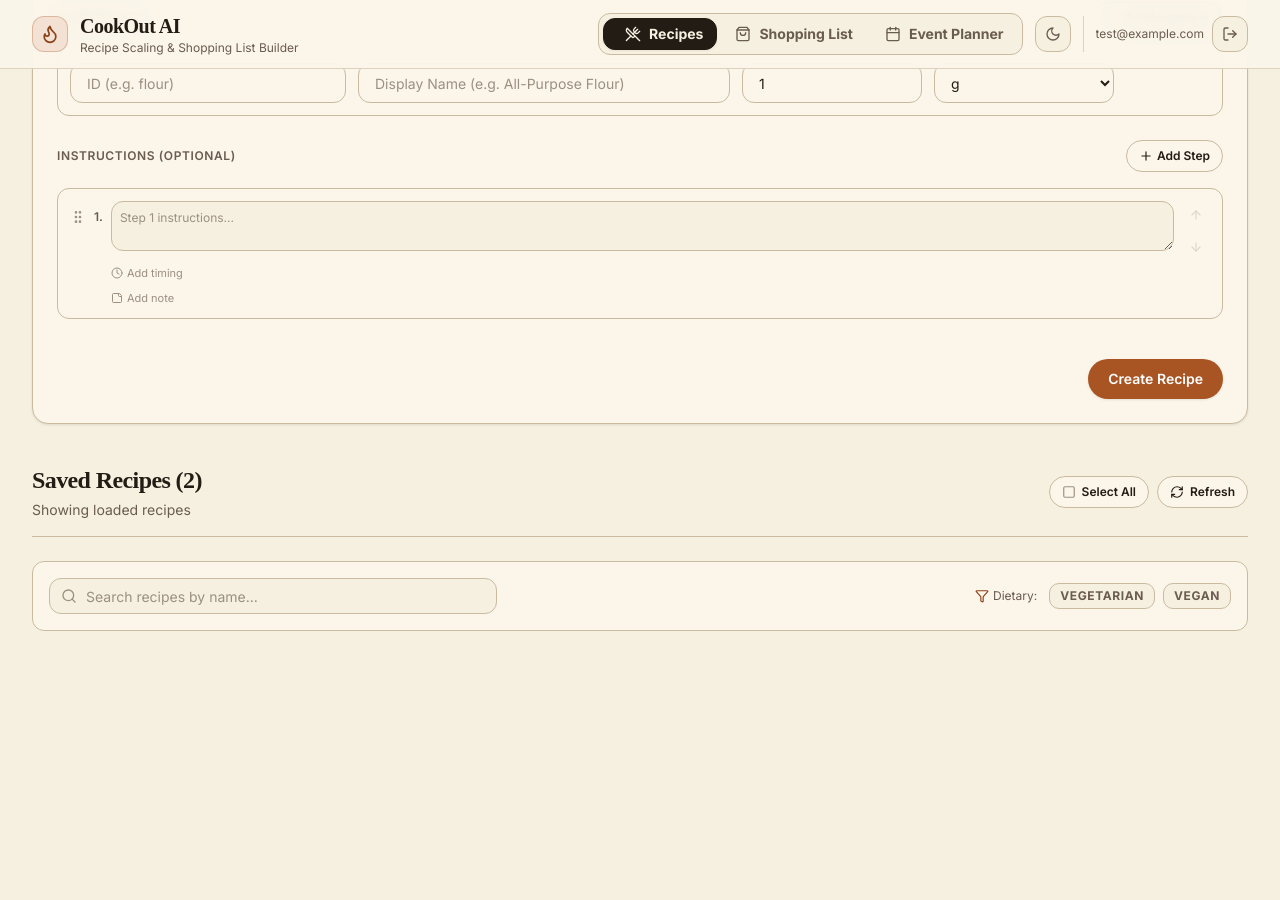
Test case: Web UI (TanStack Query & App Integration Tests) › Search & Dietary Filter UI Tests › filters recipe list by active dietary tag toggle
(page scrolled)
# Click "Filter by Vegan" toggle button
Click the button with aria-label "filter by vegan": [1197, 596] box [1163,583,1231,609]
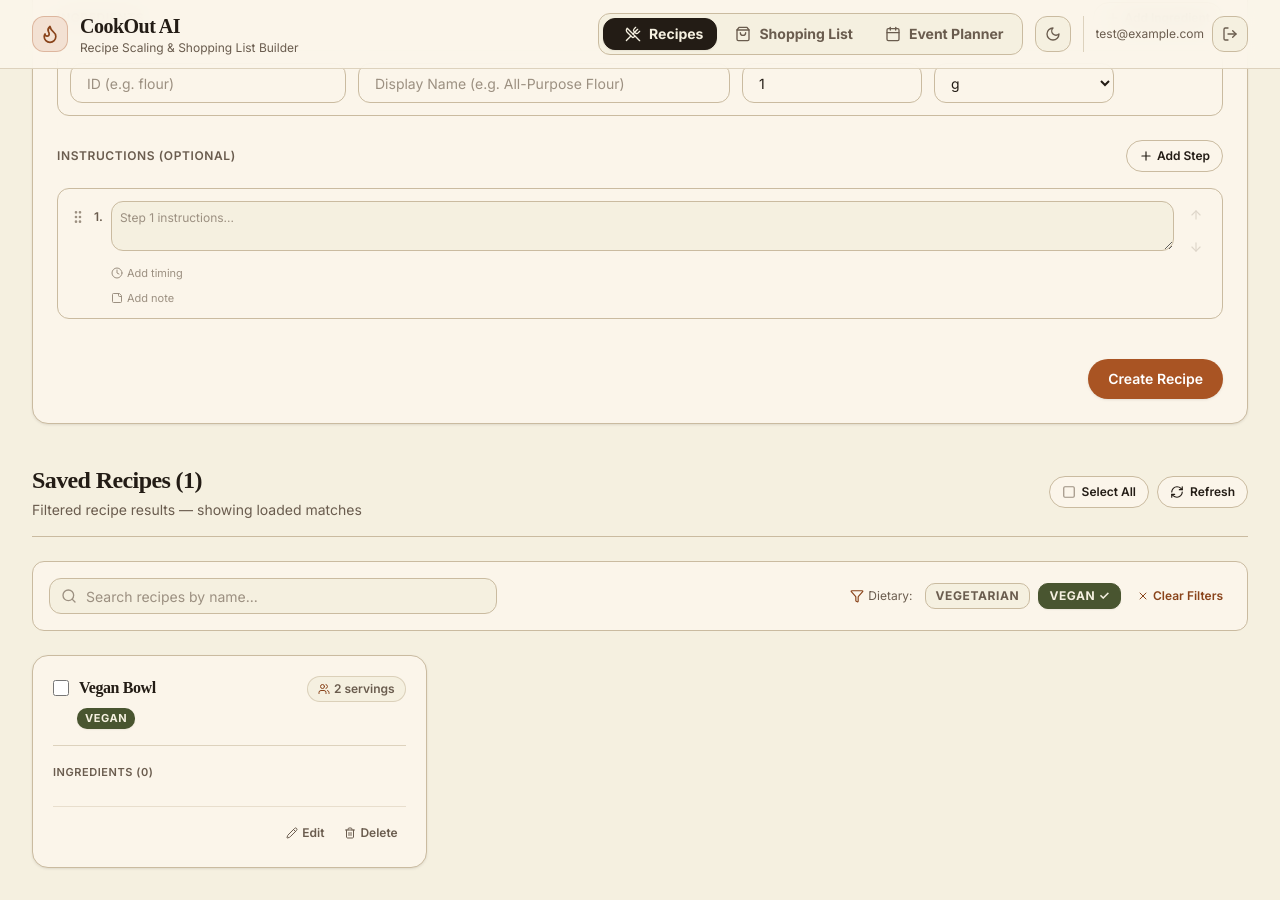
Expected: the text "Beef Stew" is not shown
Expected: the heading "Vegan Bowl" is shown, [79,676,156,700]
# Click toggle button again to deactivate filter
Click the button with aria-label "filter by vegan": [1080, 596] box [1038,583,1121,609]
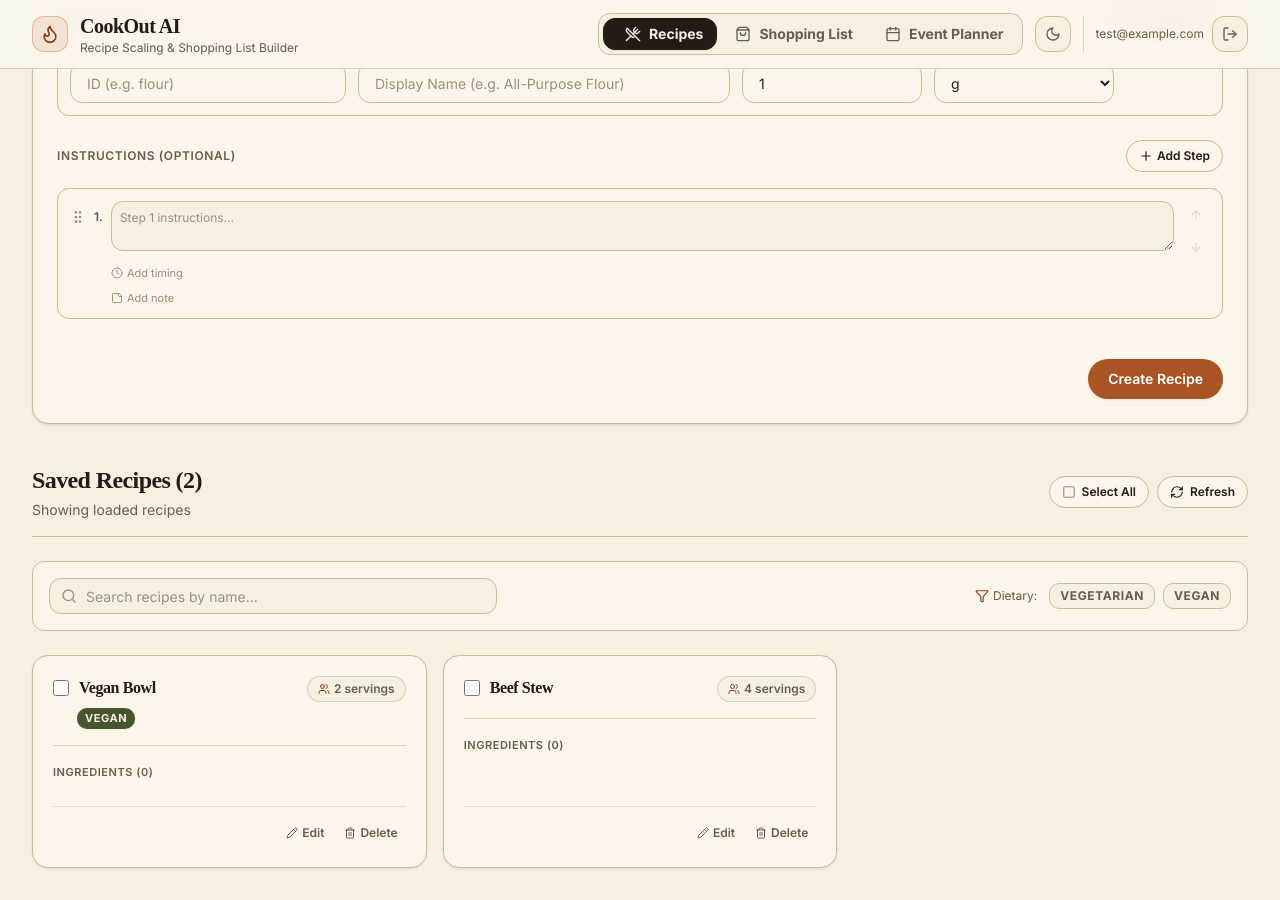
Expected: the heading "Beef Stew" is shown, [490,676,553,700]
